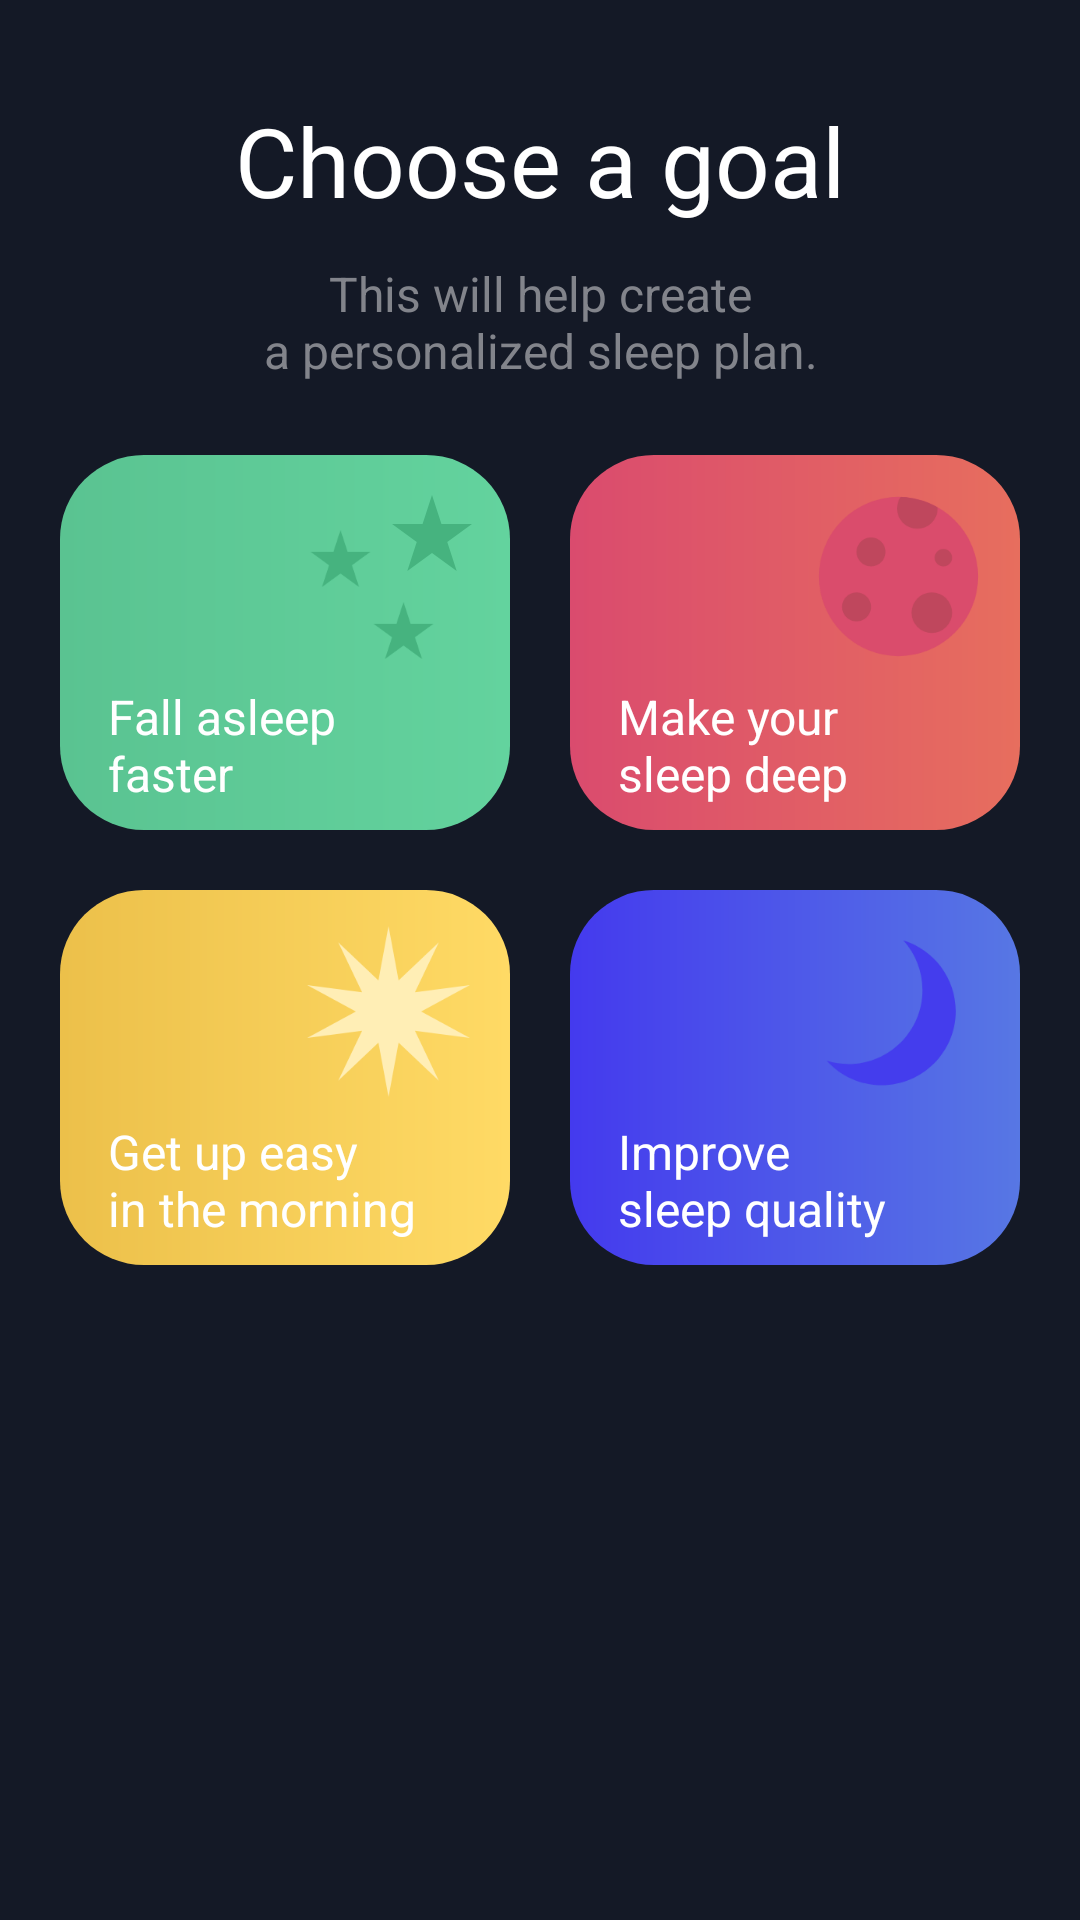

Named icons in this screenshot (1080*1920) and their bounding boxes, (x1, y1, x2, y2):
moon: (818, 497, 978, 656)
star: (393, 497, 471, 570), (312, 532, 369, 585), (375, 604, 432, 657)
yellowstar: (308, 927, 470, 1096)
young moon: (829, 942, 955, 1085)
